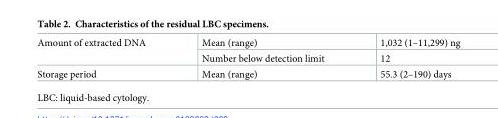table: (36, 37, 459, 79)
table column: (173, 37, 351, 79), (36, 37, 173, 79), (351, 37, 459, 79)
table row: (36, 50, 459, 66), (36, 37, 459, 50), (36, 66, 459, 79)
table spanning cell: (36, 37, 173, 66)
